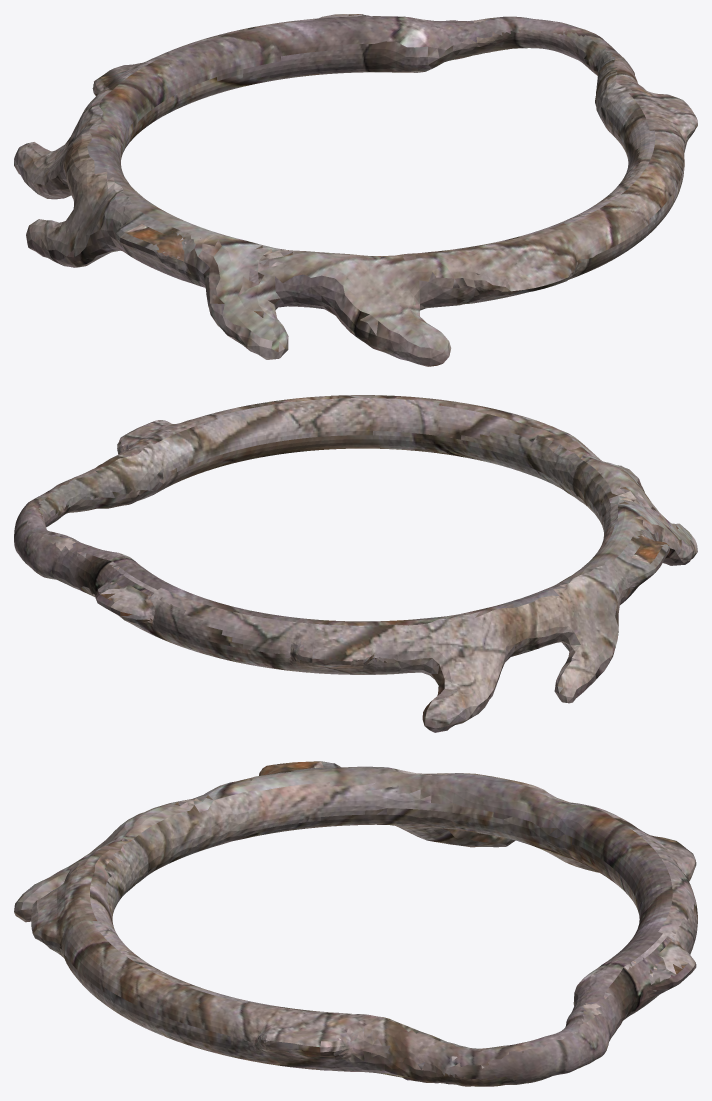
Rendered from ring006.obj.
The picture shows the model from 3 angles, top to bottom: view 1: azimuth 30°, elevation 25°; view 2: azimuth 150°, elevation 25°; view 3: azimuth 270°, elevation 25°; orthographic projection. The views are drawn at different scales.
Parts seen in each view (by area): view 1: Torus; view 2: Torus; view 3: Torus.
Boxes of the visible parts, left/top/right/bottom form: Torus: left=14, top=14, right=697, bottom=366; Torus: left=14, top=395, right=697, bottom=732; Torus: left=14, top=761, right=697, bottom=1086.
Bounding box in the file's own units: 5.95 × 0.8844 × 5.84.
1 material, 1 textured.
